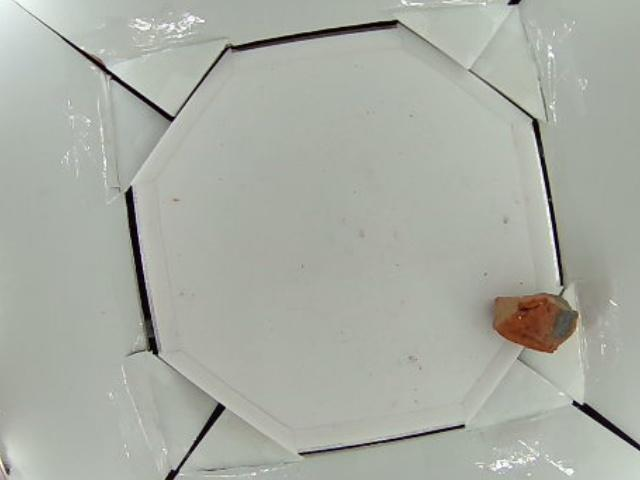Brisk: (492, 290, 581, 355)
